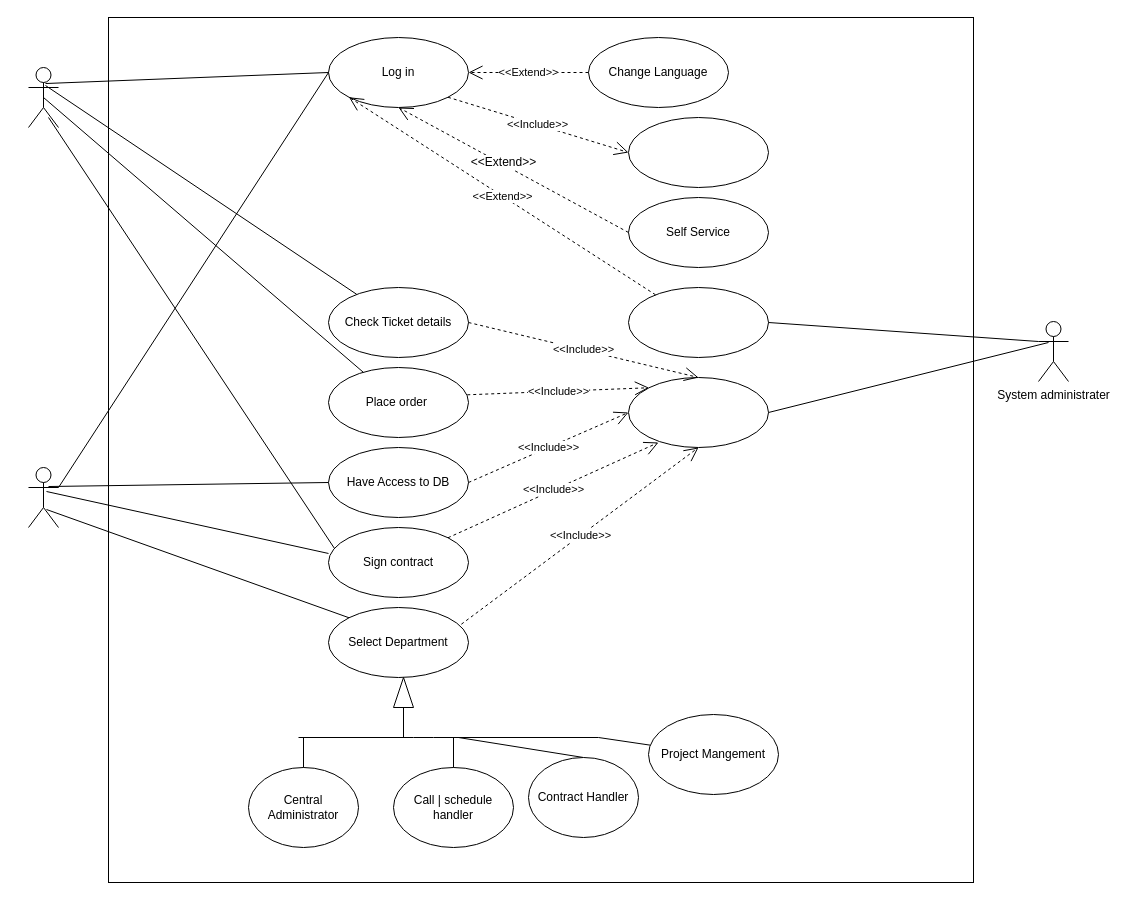
Some shapes in this 1127 by 900 pixel diagram are drawn without their labels. Each missing label, with the box of its shape:
Access database: (628, 376, 768, 448)
Check Profile Details: (628, 116, 768, 188)
Customer: (28, 66, 58, 128)
Employee: (28, 466, 58, 528)
Password Reset: (628, 286, 768, 358)
